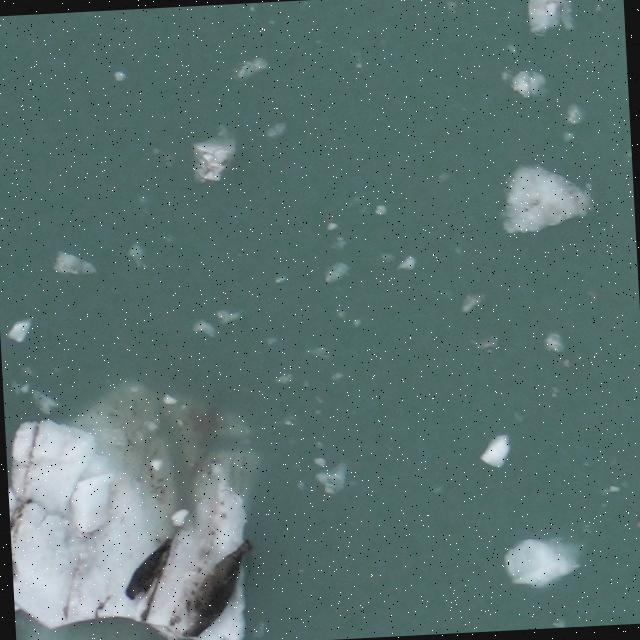seal: (169, 533, 263, 640), (119, 533, 180, 605)
